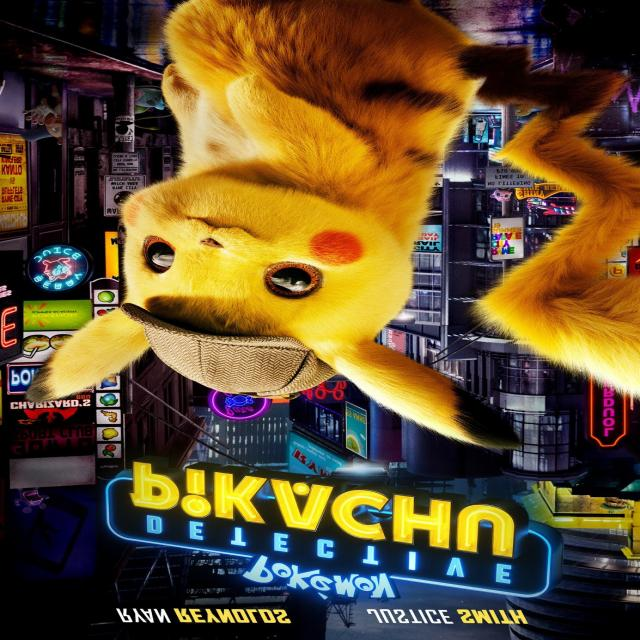Pikachu: (37, 104, 570, 452)
